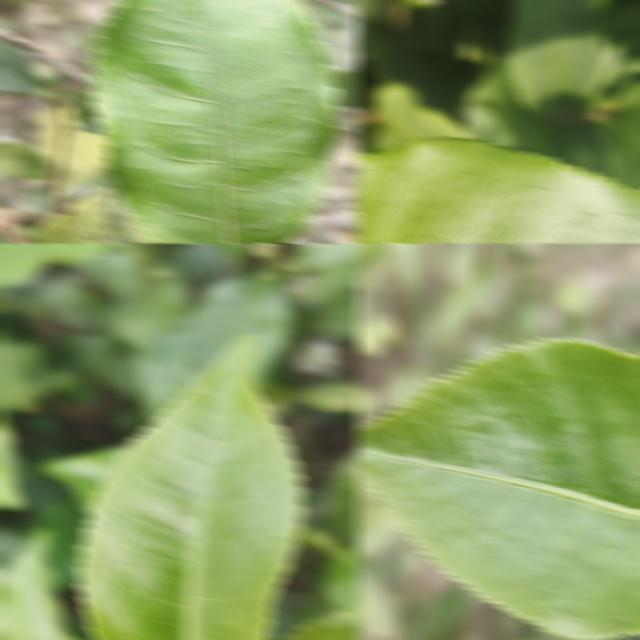Leaf: (356, 339, 640, 639), (79, 335, 304, 640), (89, 0, 338, 243), (356, 137, 640, 243), (136, 273, 293, 420), (504, 0, 606, 109), (0, 529, 84, 640), (372, 81, 471, 149), (0, 243, 114, 287), (28, 186, 113, 243), (321, 447, 360, 544), (598, 108, 640, 192), (0, 38, 45, 93), (322, 547, 360, 609), (294, 243, 360, 269)
